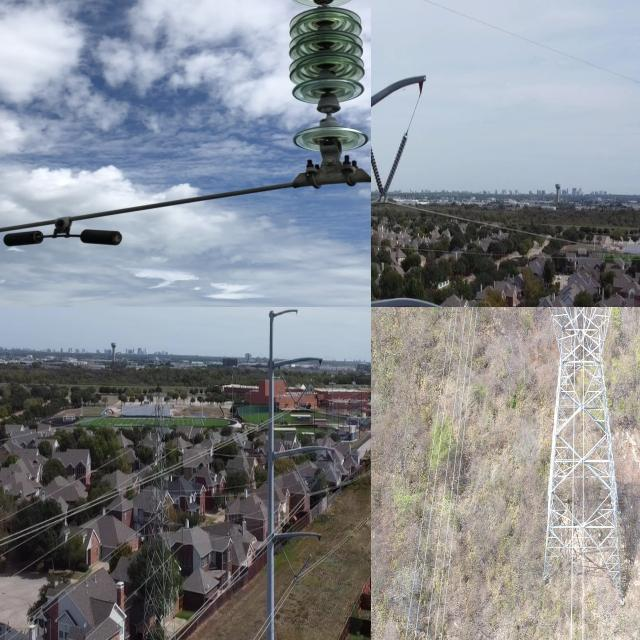杆塔: (457, 307, 640, 623), (136, 382, 185, 640)
正常绝缘子: (278, 0, 371, 185), (373, 116, 417, 215), (371, 131, 391, 206), (292, 460, 310, 496), (294, 376, 313, 407), (306, 467, 326, 496), (281, 545, 298, 579), (281, 373, 298, 406), (294, 552, 313, 579)
绝缘子破损: (316, 100, 342, 122), (312, 0, 334, 6)
